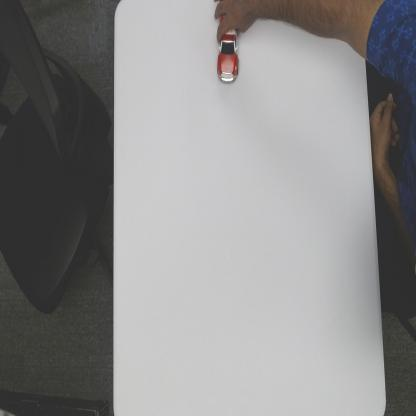Firetruck: (214, 42, 240, 84)
Hand: (212, 0, 260, 40)
